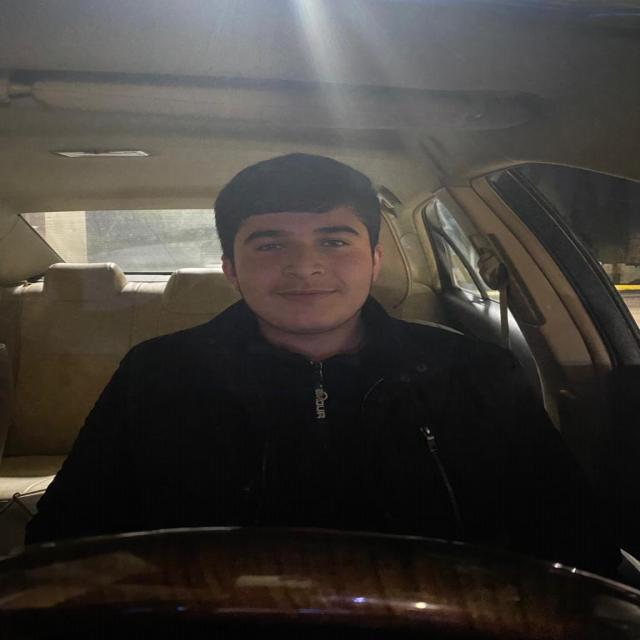person: (208, 139, 392, 345)
